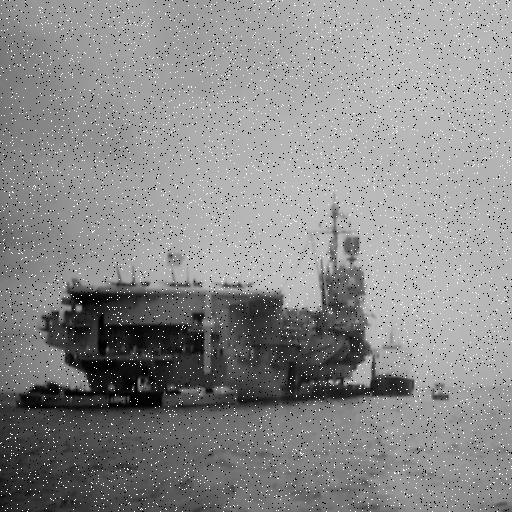Portanaves: (39, 181, 402, 412)
